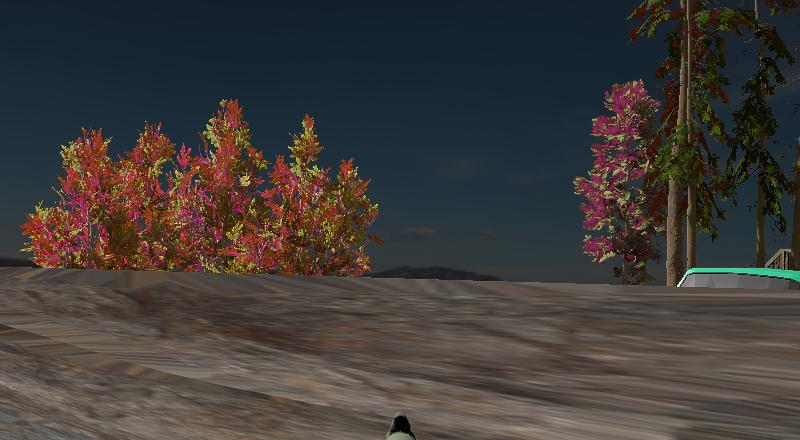House: (764, 247, 795, 271)
car: (673, 267, 800, 300)
